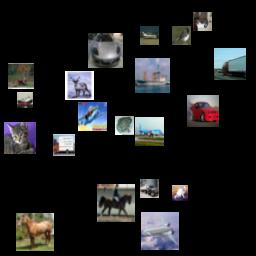airplane: (141, 212, 179, 250), (135, 117, 164, 146), (78, 102, 107, 131), (140, 26, 159, 45)
automobile: (88, 33, 123, 68), (187, 95, 219, 127)
bird: (172, 26, 191, 45)
cat: (4, 122, 36, 154), (193, 12, 212, 31), (172, 185, 188, 201)
deer: (65, 71, 94, 100), (8, 63, 34, 89)
frog: (115, 116, 134, 135)
ship: (135, 58, 170, 93), (17, 92, 33, 108)
truck: (214, 48, 246, 80), (53, 134, 75, 156), (140, 179, 159, 198)
